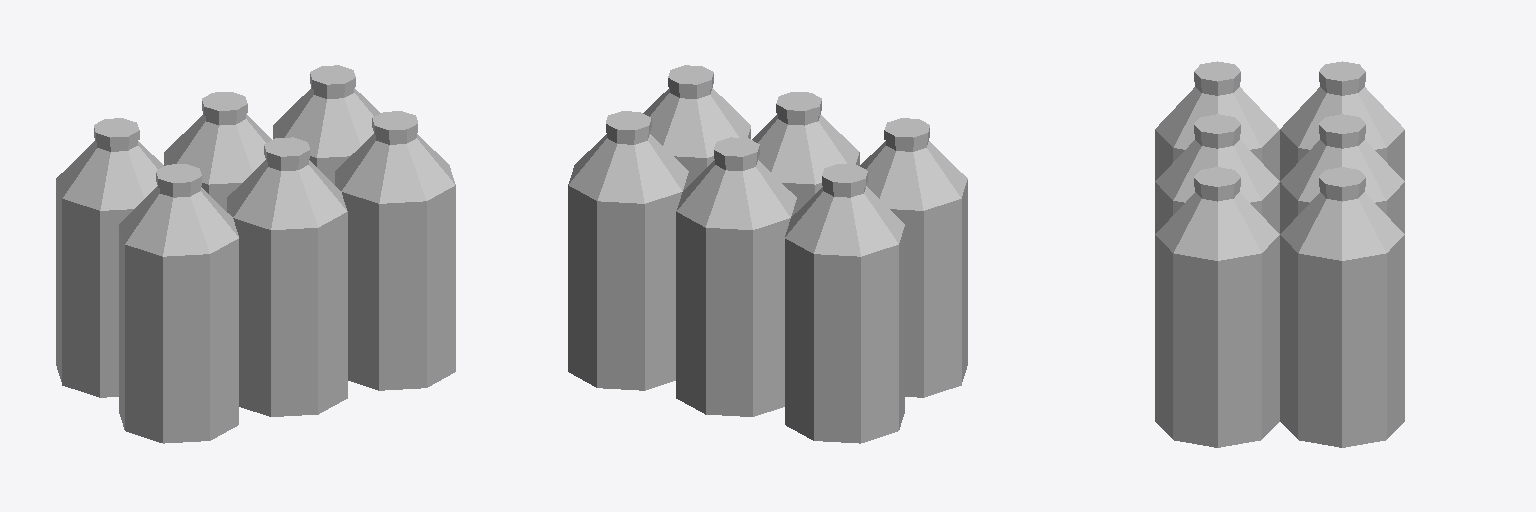
Rendered from BottleStack.obj.
3 views of the same model, side by side, from view 1: azimuth 30°, elevation 25°; view 2: azimuth 150°, elevation 25°; view 3: azimuth 270°, elevation 25° (orthographic).
Visible parts, largest first — view 1: BottleStack; view 2: BottleStack; view 3: BottleStack.
Part boxes in pixels (bbox=[...]): BottleStack: bbox=[56, 65, 455, 443]; BottleStack: bbox=[568, 65, 967, 443]; BottleStack: bbox=[1155, 61, 1404, 447].
Size of the model in its own units: 0.972 by 0.7541 by 0.648.